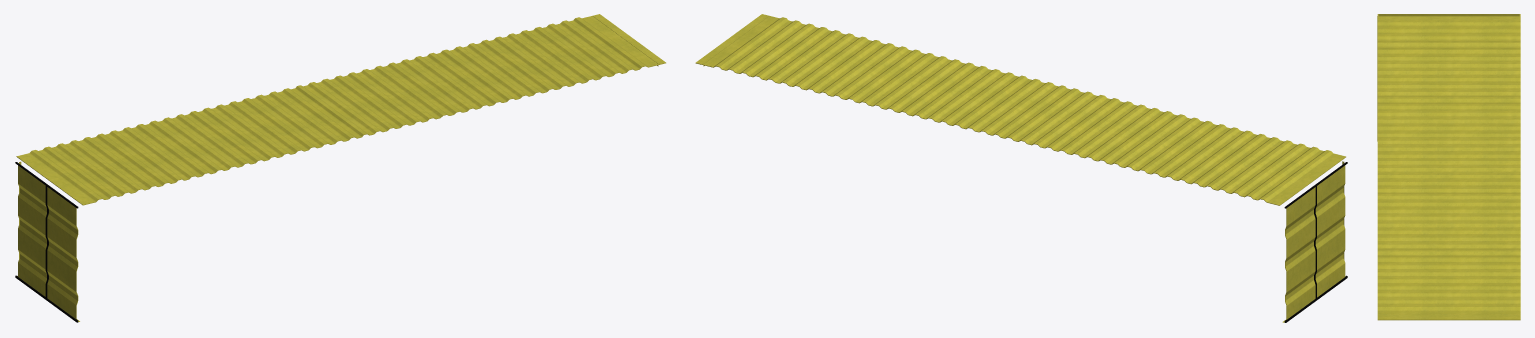
Rendered from rear-top-sprayfoam.glb.
3 views of the same model, side by side, from view 1: azimuth 30°, elevation 25°; view 2: azimuth 150°, elevation 25°; view 3: azimuth 270°, elevation 25° (orthographic). The views are drawn at different scales.
Visible parts, largest first — view 1: 40FT Sprayfoam_Ceiling, 40FT Sprayfoam_RearTop; view 2: 40FT Sprayfoam_Ceiling, 40FT Sprayfoam_RearTop; view 3: 40FT Sprayfoam_Ceiling.
Part boxes in pixels (<box>): 40FT Sprayfoam_Ceiling: <box>16,14,665,321</box>; 40FT Sprayfoam_RearTop: <box>15,162,78,322</box>; 40FT Sprayfoam_Ceiling: <box>695,14,1345,322</box>; 40FT Sprayfoam_RearTop: <box>1284,162,1347,322</box>; 40FT Sprayfoam_Ceiling: <box>1377,14,1520,320</box>.
Size of the model in its own units: 12.1 by 2.37 by 2.38.
2 materials, 1 textured.
